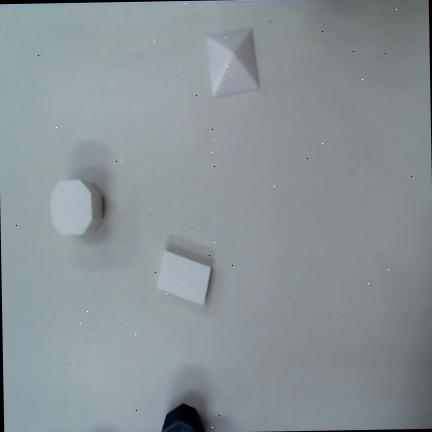Paralelepipedo: (157, 250, 210, 305)
Piramide: (205, 28, 258, 97)
Prisma_hexagonal: (50, 179, 103, 235), (160, 404, 204, 432)
